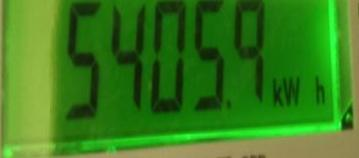.: (270, 74, 328, 108)
0: (224, 98, 233, 109)
1: (150, 1, 185, 114)
5: (109, 2, 148, 111)
6: (63, 0, 104, 120), (192, 0, 226, 111)
:: (231, 0, 270, 105)
